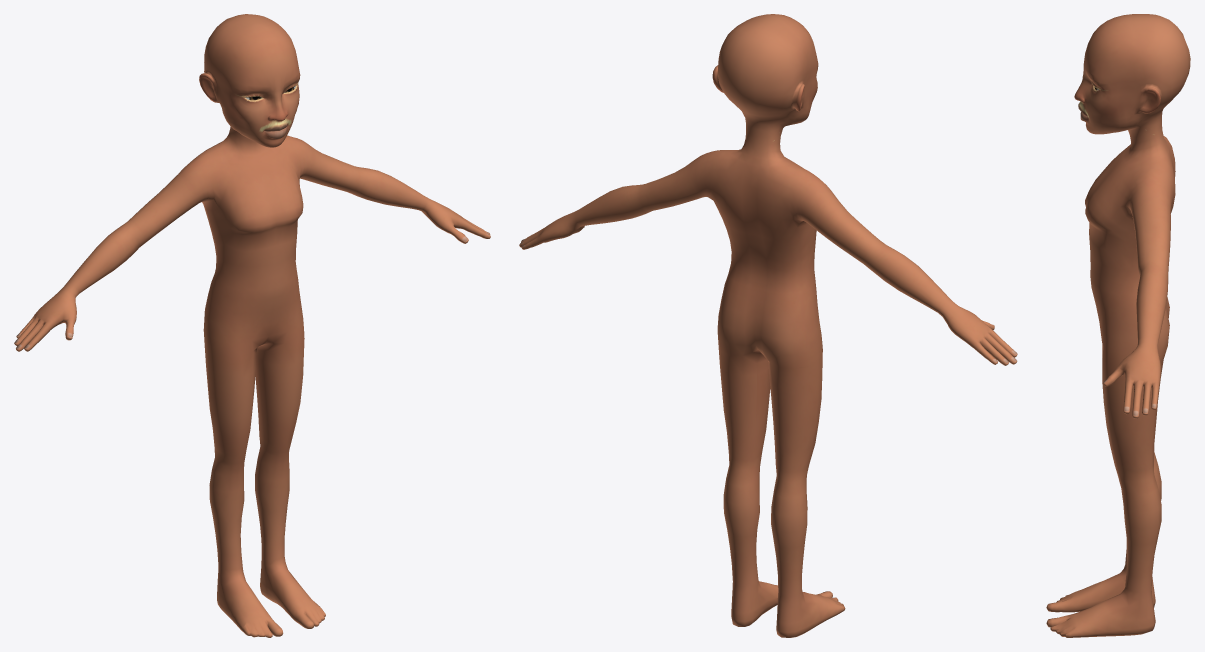
Rendered from frame_0005.glb.
3 views of the same model, side by side, from view 1: azimuth 30°, elevation 25°; view 2: azimuth 150°, elevation 25°; view 3: azimuth 270°, elevation 25° (orthographic). The views are drawn at different scales.
Visible parts, largest first — view 1: frame_0005_head_geo; view 2: frame_0005_head_geo; view 3: frame_0005_head_geo.
Part boxes in pixels (x1,y1,x2,y2): frame_0005_head_geo: [14, 14, 490, 637]; frame_0005_head_geo: [519, 14, 1017, 637]; frame_0005_head_geo: [1046, 14, 1190, 637].
Bounding box in the file's own units: 1.28 × 1.5 × 0.3253.
Materials: 3 (3 with a texture image).
